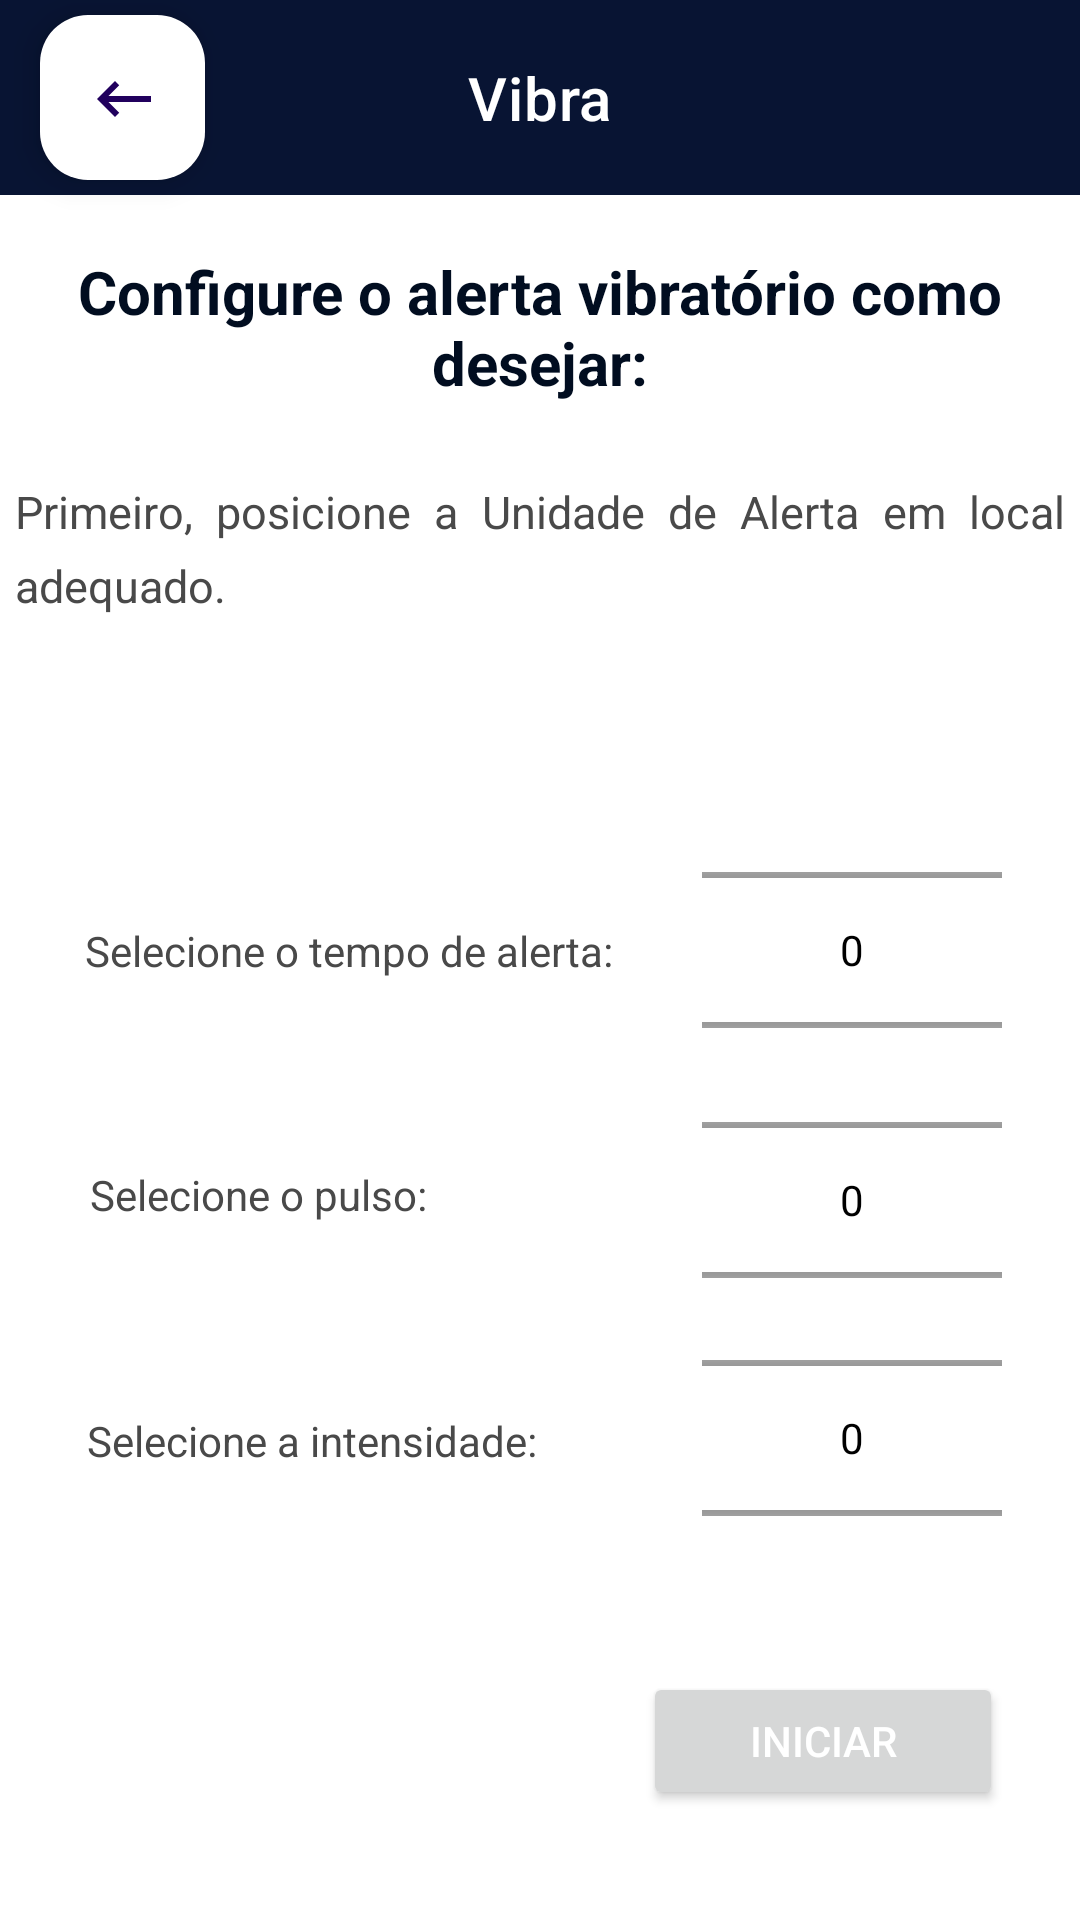

Icon bounding boxes for this 1080w x 1920h phone screenshot, format (x1, y1, x2, y2):
keyboard backspace: (40, 15, 205, 180)
